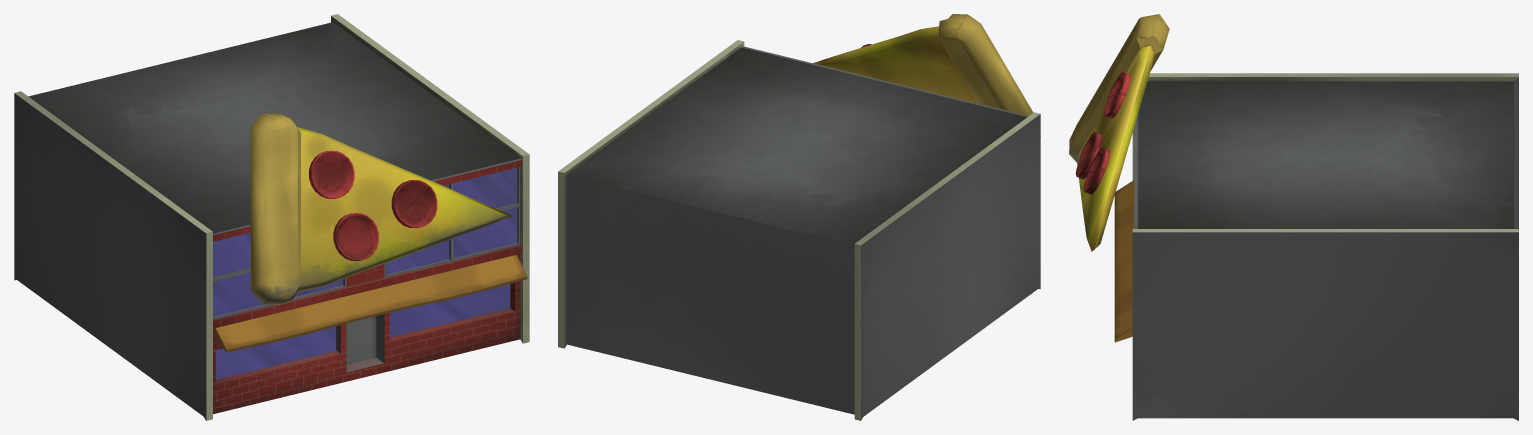
The model's file is Building_Pizzeria.fbx.
3 renders of one model, left to right at view 1: azimuth 30°, elevation 25°; view 2: azimuth 150°, elevation 25°; view 3: azimuth 270°, elevation 25°, orthographic. The views are drawn at different scales.
Parts seen in each view (by area): view 1: Building07, Pizza; view 2: Building07, Pizza; view 3: Building07, Pizza.
Boxes of the visible parts, x1,y1,x2,y2 form: Building07: (14,14,529,420); Pizza: (250,113,512,304); Building07: (558,40,1040,420); Pizza: (813,14,1040,136); Building07: (1114,73,1518,420); Pizza: (1069,14,1169,251).
Bounding box in the file's own units: 1500 × 1244 × 1794.
